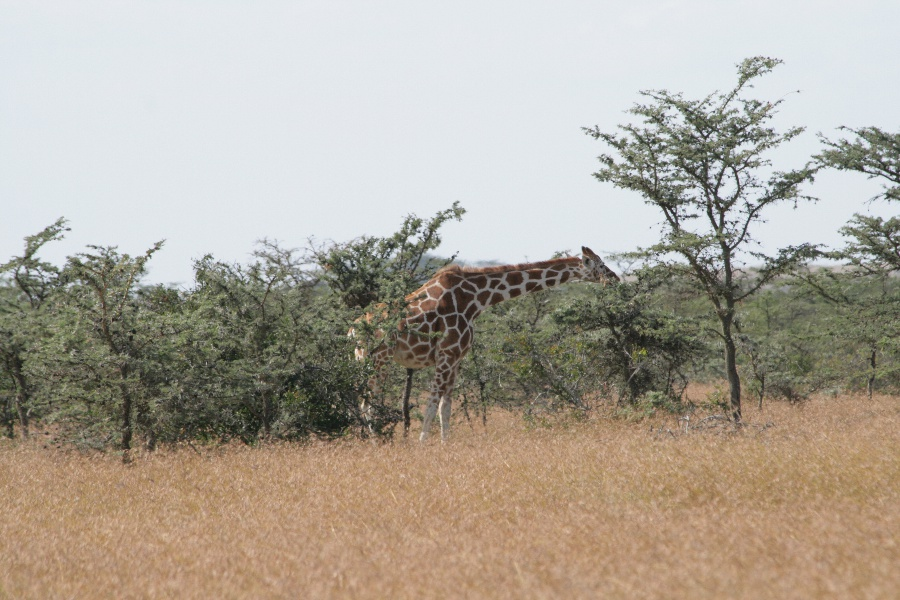giraffe: (343, 239, 626, 449)
